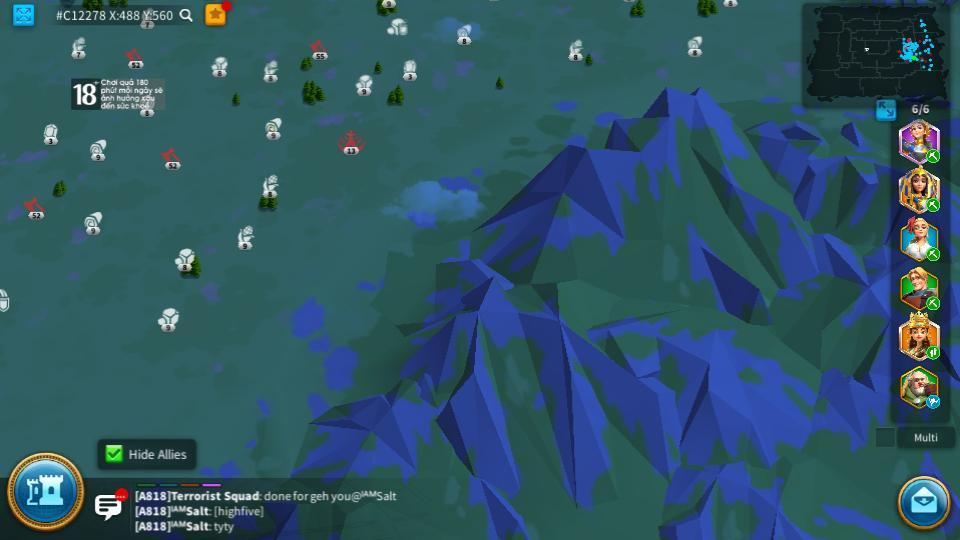gem-z-out: (41, 122, 58, 143), (400, 59, 418, 78), (0, 288, 11, 312)
march_idle: (925, 396, 942, 408)
march_marching: (925, 197, 941, 212), (925, 345, 941, 359), (925, 149, 941, 162), (925, 248, 942, 260), (925, 297, 942, 308)
